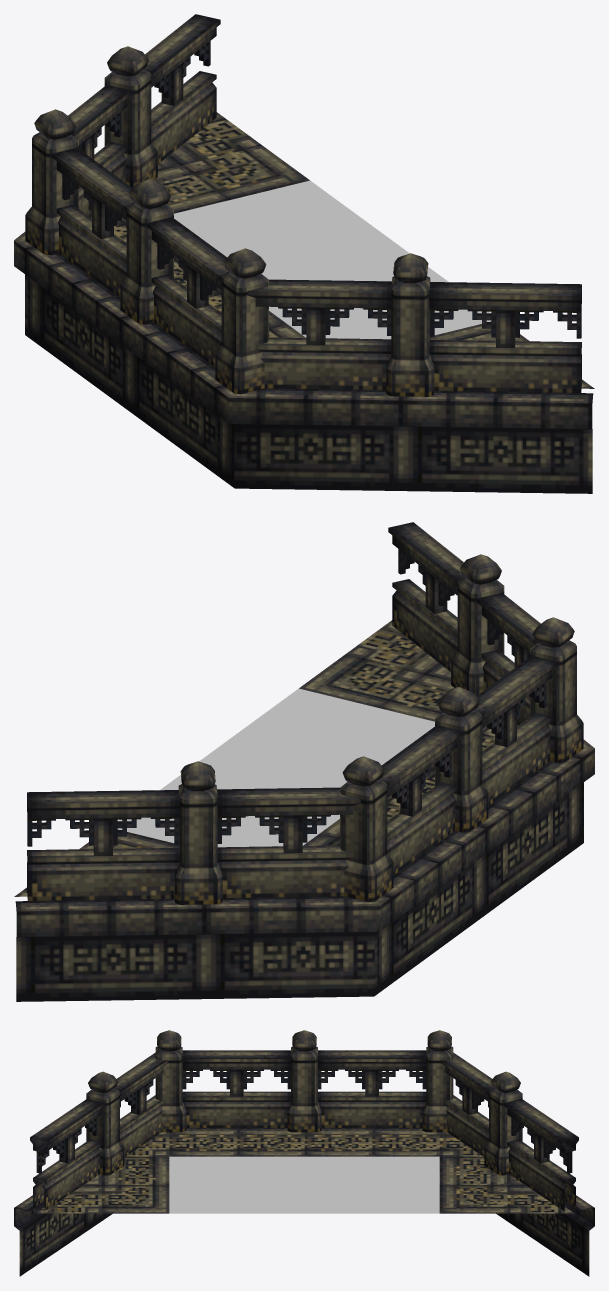
Rendered from EnvMdrMD_Desert_Exterior_Terrace_A.FBX.
3 views of the same model, one above another, from view 1: azimuth 30°, elevation 25°; view 2: azimuth 150°, elevation 25°; view 3: azimuth 270°, elevation 25° (orthographic). The views are drawn at different scales.
Parts seen in each view (by area): view 1: EnvMdrMD_Desert_Exterior_Terrace_A; view 2: EnvMdrMD_Desert_Exterior_Terrace_A; view 3: EnvMdrMD_Desert_Exterior_Terrace_A.
Part boxes in pixels (x1,y1,x2,y2): EnvMdrMD_Desert_Exterior_Terrace_A: (14,14,594,493); EnvMdrMD_Desert_Exterior_Terrace_A: (14,522,594,1001); EnvMdrMD_Desert_Exterior_Terrace_A: (14,1030,594,1276).
Bounding box in the file's own units: 345 × 265 × 859.
